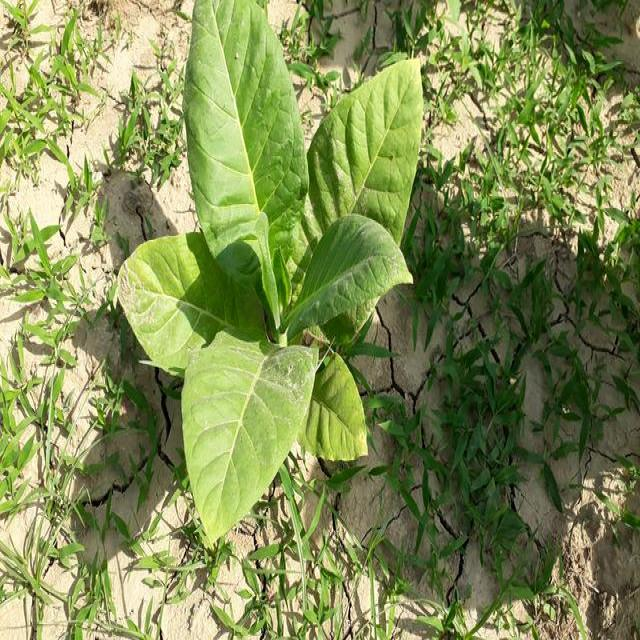crop: (127, 8, 426, 509)
